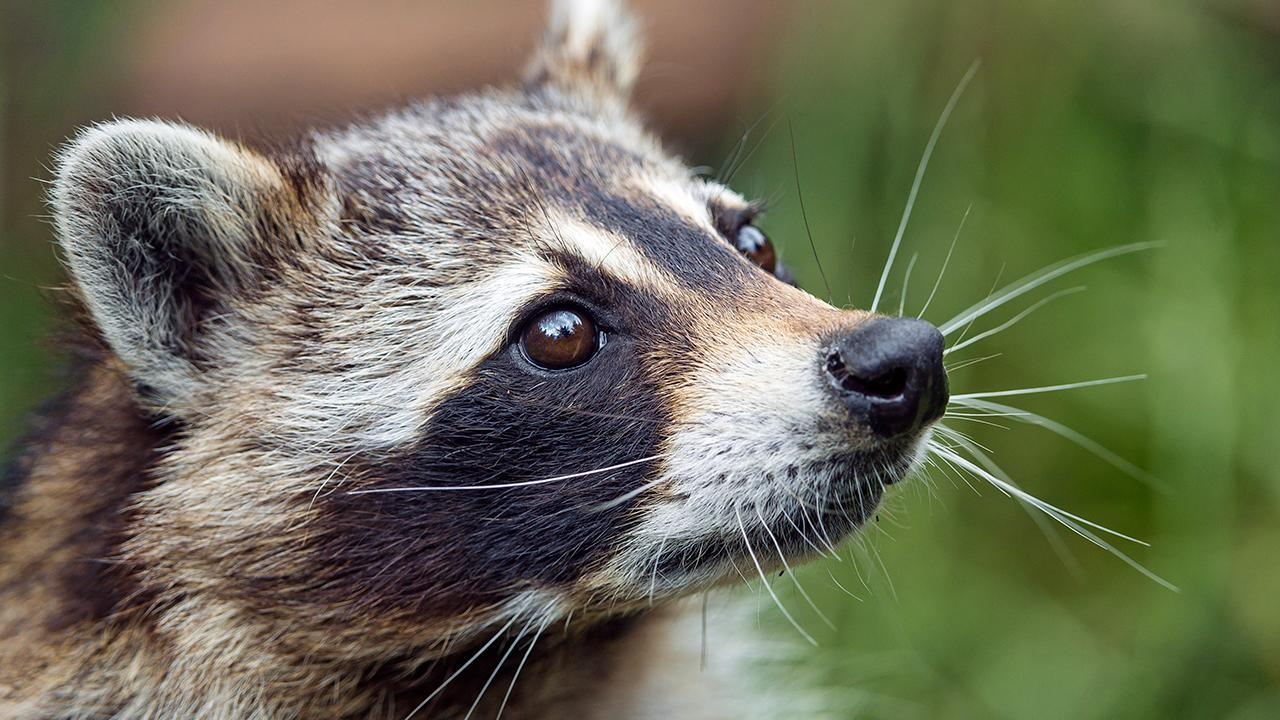raccoon: (0, 0, 950, 720)
